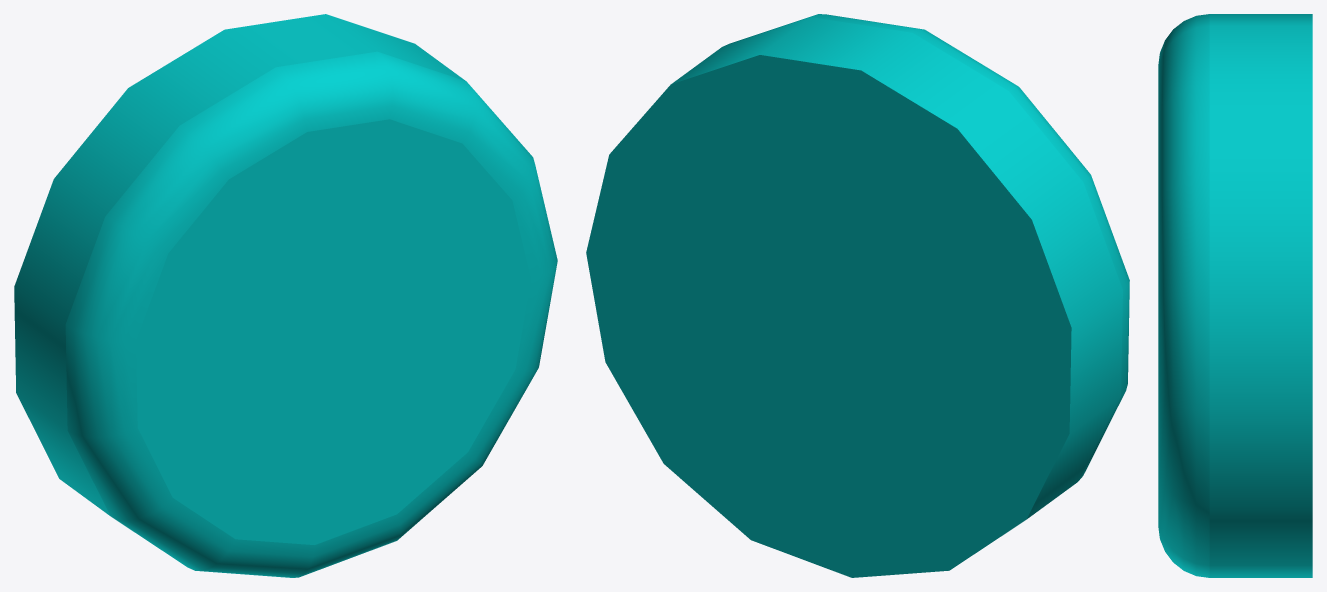
Rendered from original-29.obj.
3 views of the same model, side by side, from view 1: azimuth 30°, elevation 25°; view 2: azimuth 150°, elevation 25°; view 3: azimuth 270°, elevation 25° (orthographic).
Parts seen in each view (by area): view 1: mesh51/mesh51-geometry#mesh51-geometry; view 2: mesh51/mesh51-geometry#mesh51-geometry; view 3: mesh51/mesh51-geometry#mesh51-geometry.
Part boxes in pixels (box(x1,y1,x2,y2)): mesh51/mesh51-geometry#mesh51-geometry: box(14, 14, 557, 577); mesh51/mesh51-geometry#mesh51-geometry: box(586, 14, 1129, 577); mesh51/mesh51-geometry#mesh51-geometry: box(1158, 14, 1312, 577).
Size of the model in its own units: 0.0287 by 0.0288 by 0.0079.
